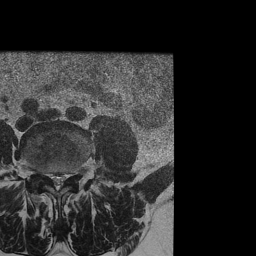CCS_stenosis: (54, 165, 61, 195)
LFS_severe_stenosis: (69, 163, 77, 184)
LLS_stenosis: (61, 164, 69, 187)
RFS_severe_stenosis: (39, 162, 46, 182)
RLS_stenosis: (46, 165, 54, 187)
